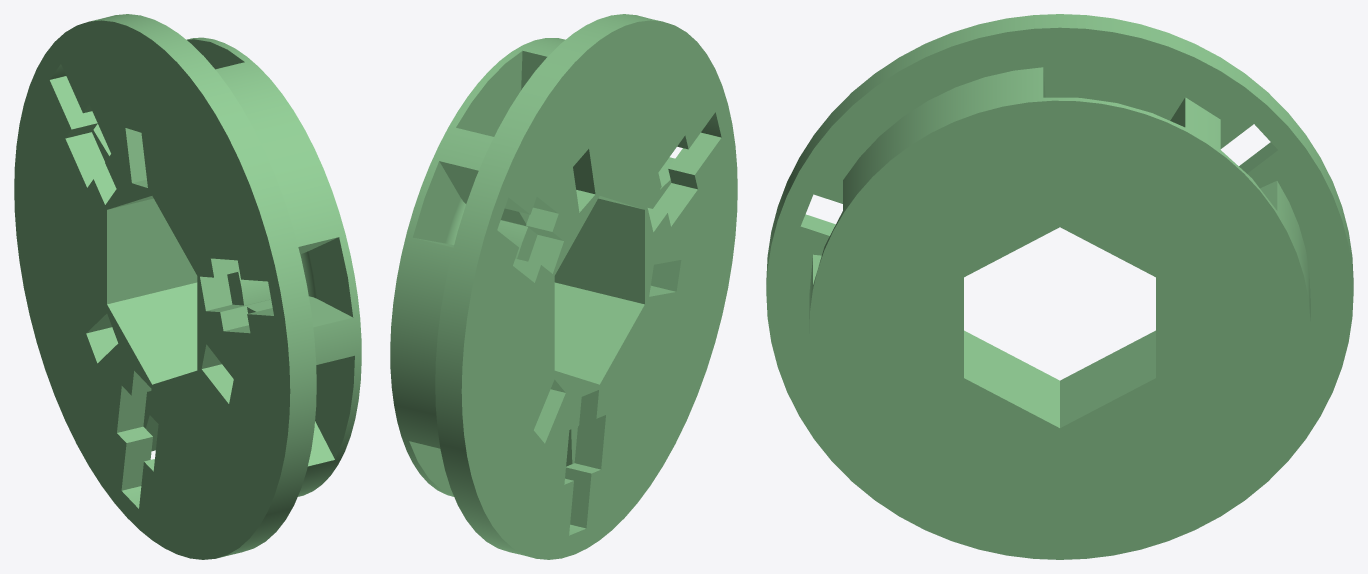
Rendered from coupling_head.dae.
The picture shows the model from 3 angles, left to right: view 1: azimuth 30°, elevation 25°; view 2: azimuth 150°, elevation 25°; view 3: azimuth 270°, elevation 25°; orthographic projection. The views are drawn at different scales.
Parts seen in each view (by area): view 1: Body1; view 2: Body1; view 3: Body1.
Part boxes in pixels (bbox=[...]): Body1: bbox=[14, 14, 361, 559]; Body1: bbox=[390, 14, 737, 559]; Body1: bbox=[766, 14, 1353, 559].
Size of the model in its own units: 0.027 by 0.1406 by 0.1406.
